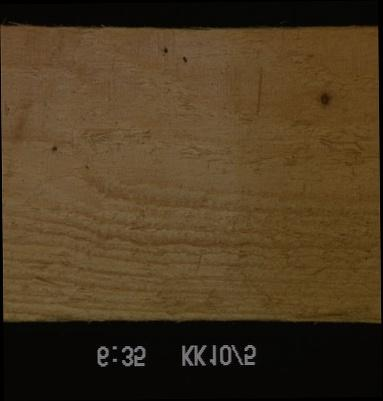small_knot: (46, 141, 60, 156), (79, 160, 95, 173), (176, 53, 190, 65), (158, 45, 170, 57)
